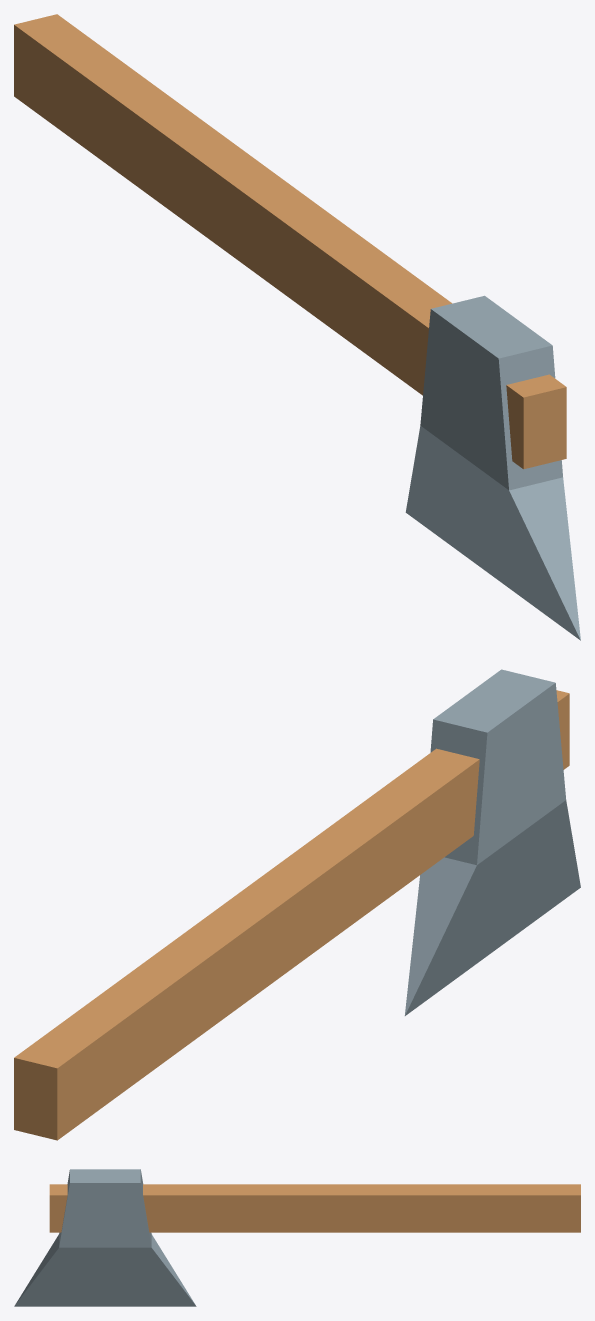
Rendered from axe.glb.
3 views of the same model, one above another, from view 1: azimuth 30°, elevation 25°; view 2: azimuth 150°, elevation 25°; view 3: azimuth 270°, elevation 25° (orthographic). The views are drawn at different scales.
Visible parts, largest first — view 1: Cube, Cube.001; view 2: Cube, Cube.001; view 3: Cube, Cube.001.
Part boxes in pixels (bbox=[...]): Cube: bbox=[14, 14, 566, 469]; Cube.001: bbox=[405, 295, 580, 640]; Cube: bbox=[14, 690, 569, 1140]; Cube.001: bbox=[404, 669, 580, 1015]; Cube: bbox=[49, 1184, 580, 1232]; Cube.001: bbox=[14, 1169, 196, 1306].
Size of the model in its own units: 0.06 by 0.2652 by 1.05.
2 materials, 2 textured.
